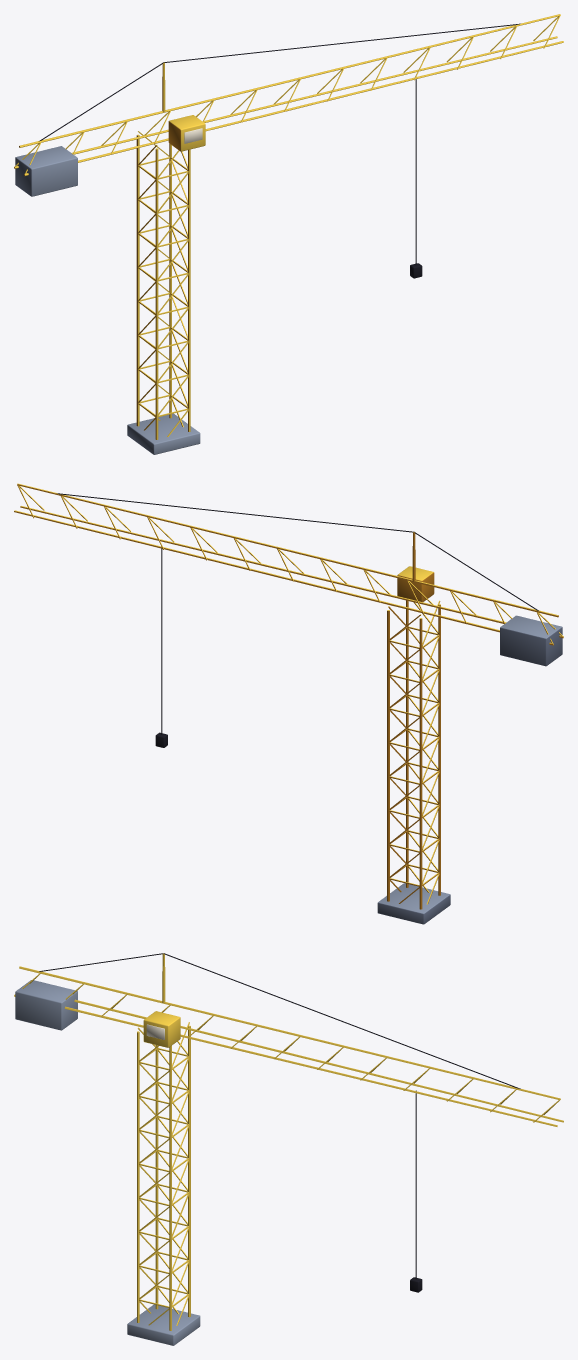
File: TowerCrane.fbx
The picture shows the model from 3 angles, top to bottom: view 1: azimuth 30°, elevation 25°; view 2: azimuth 150°, elevation 25°; view 3: azimuth 330°, elevation 25°; orthographic projection.
Visible parts, largest first — view 1: TowerCrane; view 2: TowerCrane; view 3: TowerCrane.
Part boxes in pixels (x1=…): TowerCrane: x1=14, y1=14, x2=563, y2=454; TowerCrane: x1=14, y1=483, x2=563, y2=924; TowerCrane: x1=14, y1=953, x2=563, y2=1345.
Size of the model in its own units: 30.04 by 20.05 by 3.13.
Materials: 1 (1 with a texture image).
